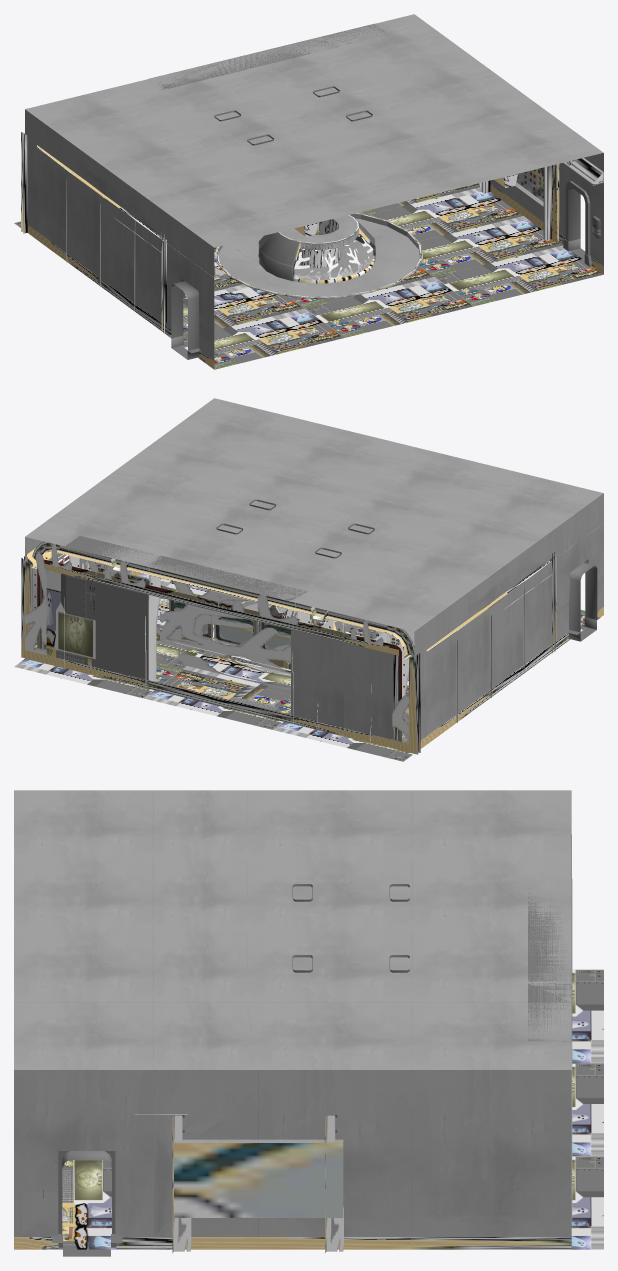
File: MSH_Overseer_L3_R2_optimized.fbx
3 renders of one model, top to bottom at view 1: azimuth 30°, elevation 25°; view 2: azimuth 150°, elevation 25°; view 3: azimuth 270°, elevation 25°, orthographic. The views are drawn at different scales.
Parts seen in each view (by area): view 1: lightmap0, lightmap1; view 2: lightmap0, lightmap1; view 3: lightmap0, lightmap1.
Part boxes in pixels (x1,y1,x2,y2): lightmap0: (14,14,603,369); lightmap1: (21,109,603,369); lightmap0: (14,398,603,761); lightmap1: (21,493,603,754); lightmap0: (14,790,603,1256); lightmap1: (14,834,571,1253).
Bounding box in the file's own units: 20.61 × 6.15 × 17.47.
